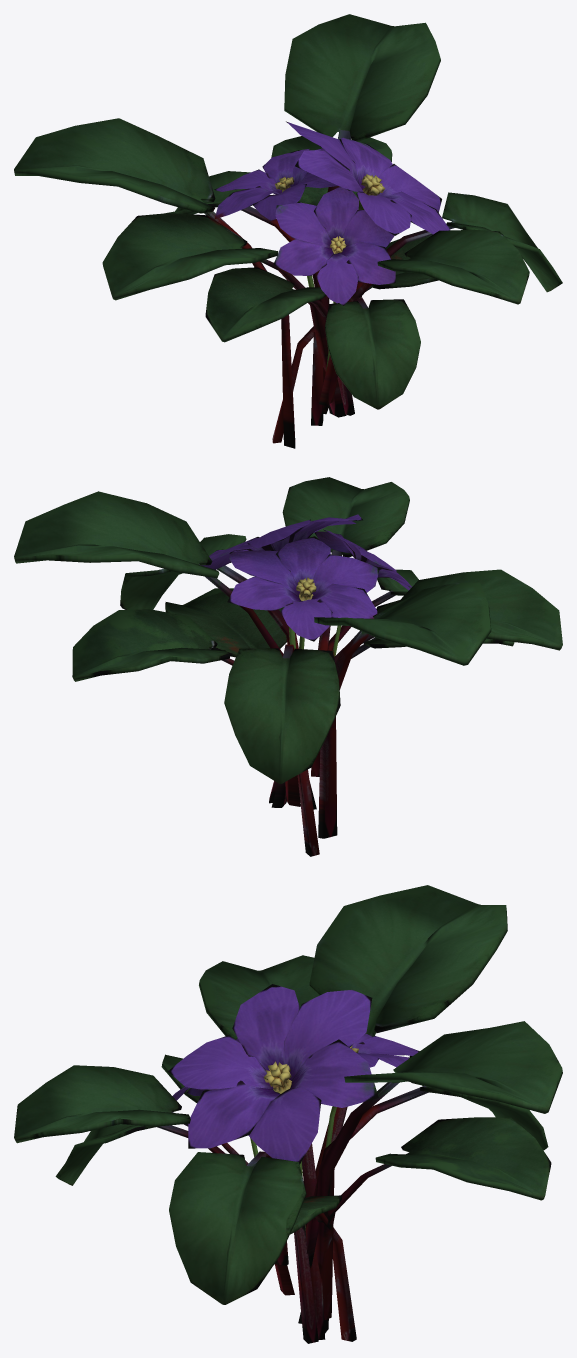
File: A_FleurViolette.fbx
The picture shows the model from 3 angles, top to bottom: view 1: azimuth 30°, elevation 25°; view 2: azimuth 150°, elevation 25°; view 3: azimuth 270°, elevation 25°; orthographic projection. The views are drawn at different scales.
Visible parts, largest first — view 1: O_FleurViolette_LD; view 2: O_FleurViolette_LD; view 3: O_FleurViolette_LD.
Part boxes in pixels (x1,y1,x2,y2): O_FleurViolette_LD: (14,14,562,448); O_FleurViolette_LD: (14,477,562,856); O_FleurViolette_LD: (14,885,562,1343).
Bounding box in the file's own units: 68.68 × 48.79 × 65.53.
1 material, 1 textured.
